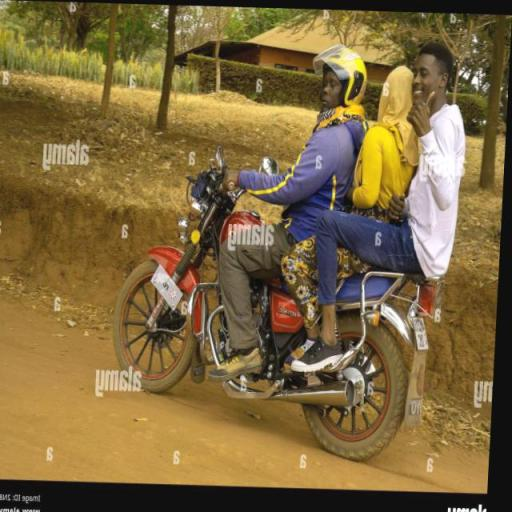tripple riding: (212, 29, 472, 381)
